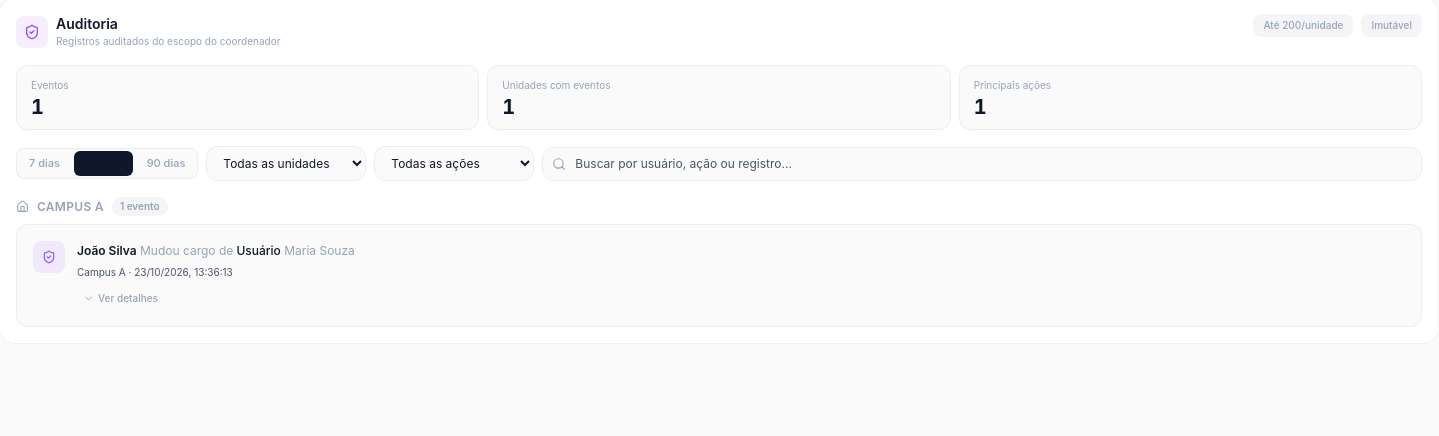
Test: CoordinatorAuditTab — auditoria READ-ONLY sobre o escopo visível (V1) › filtro por período funciona sobre os dados carregados (padrão 30 dias)
Check: the element with test id "audit-event-recent" is shown, box [33,241,355,308]
Click the button with test id "audit-period-90": (166,164) [137,151,195,176]
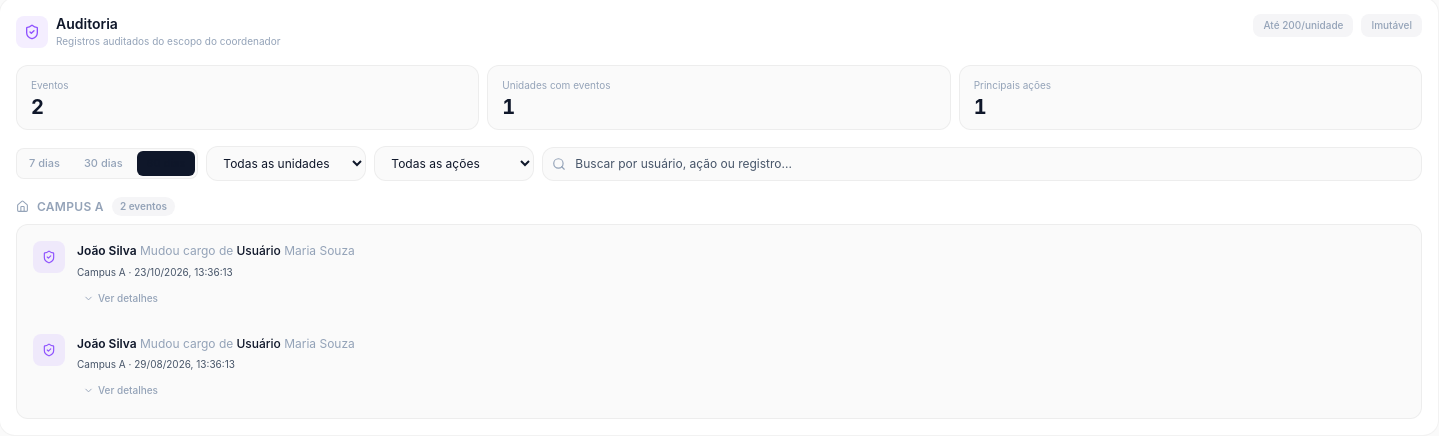
Check: the element with test id "audit-event-recent" is shown, box [33,241,355,308]
Check: the element with test id "audit-event-old" is shown, box [33,334,355,400]
